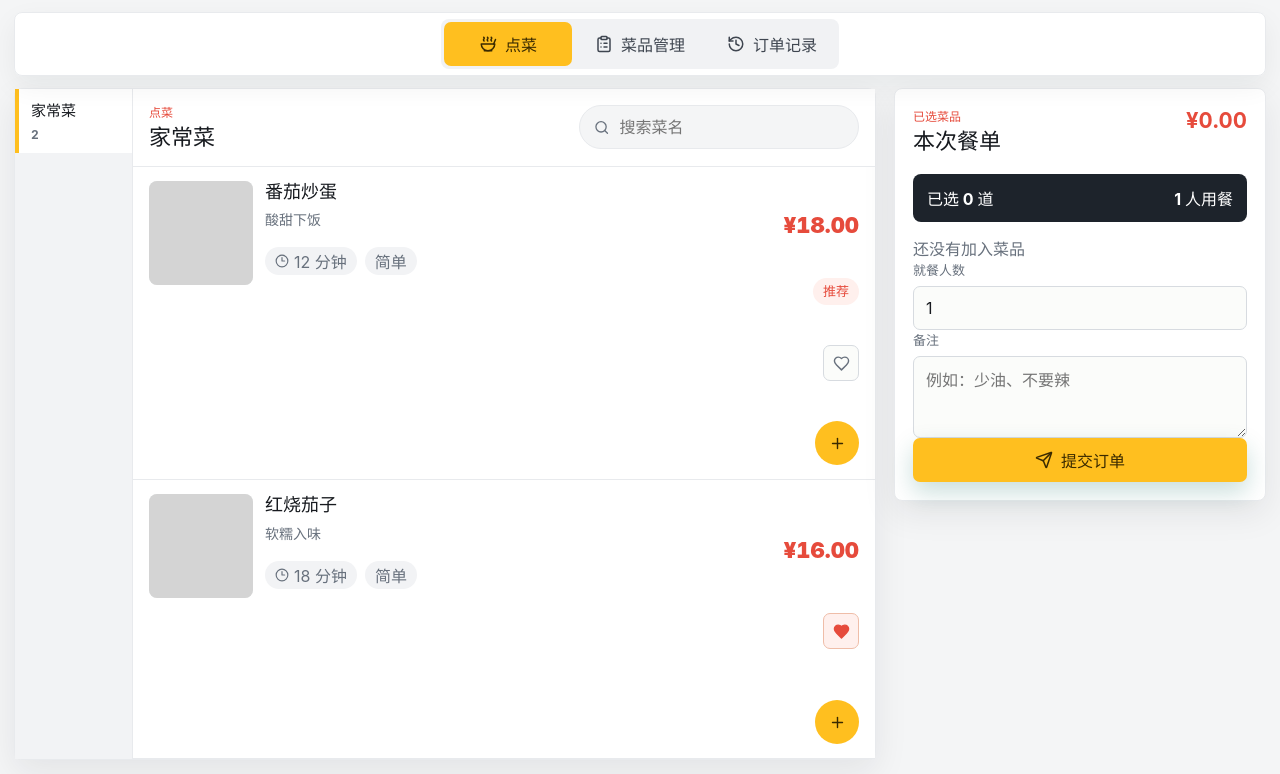
Test: App › keeps selected dishes after switching tabs
expect the text "番茄炒蛋" is shown: met, box [265, 180, 337, 202]
Step 1. Click the button named "加入餐单 番茄炒蛋" → (837, 443), box [815, 421, 859, 465]
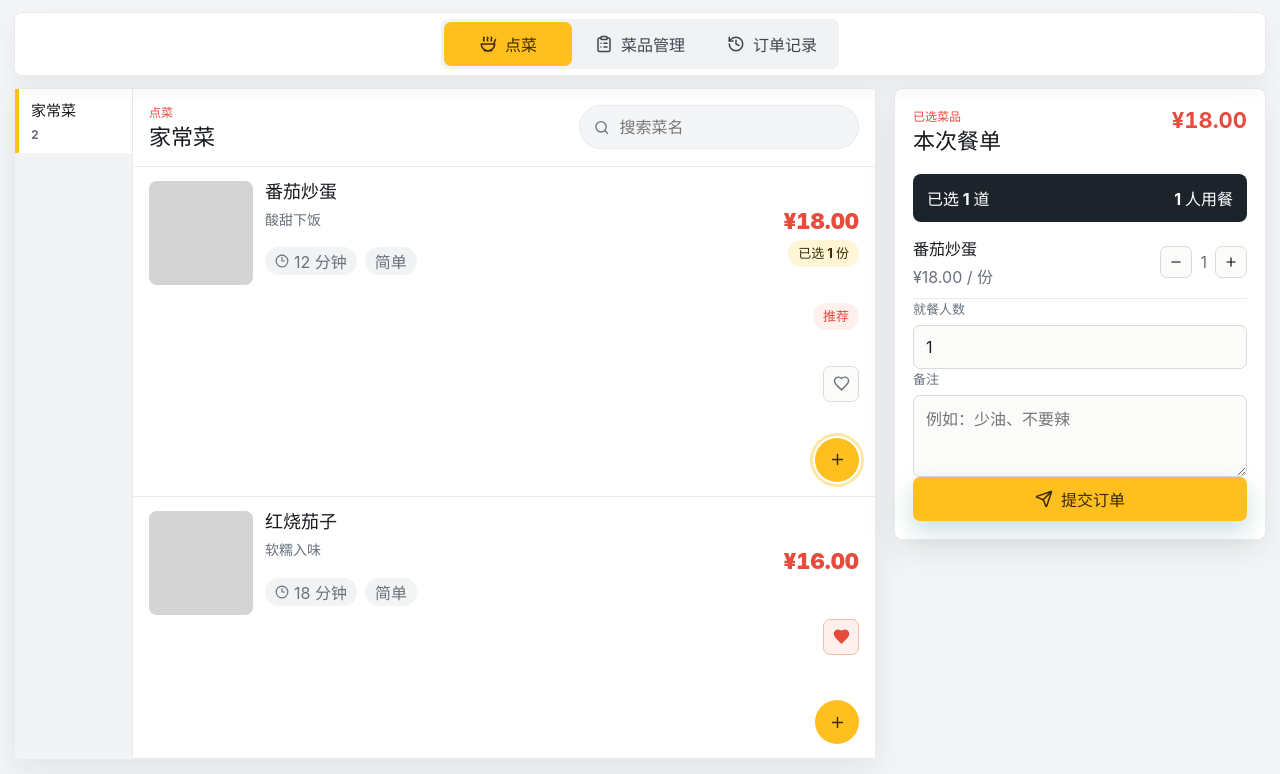
expect the text "已选 1 份" is shown: met, box [788, 240, 859, 267]
Step 2. Click the button "菜品管理" → (640, 44), box [576, 22, 704, 66]
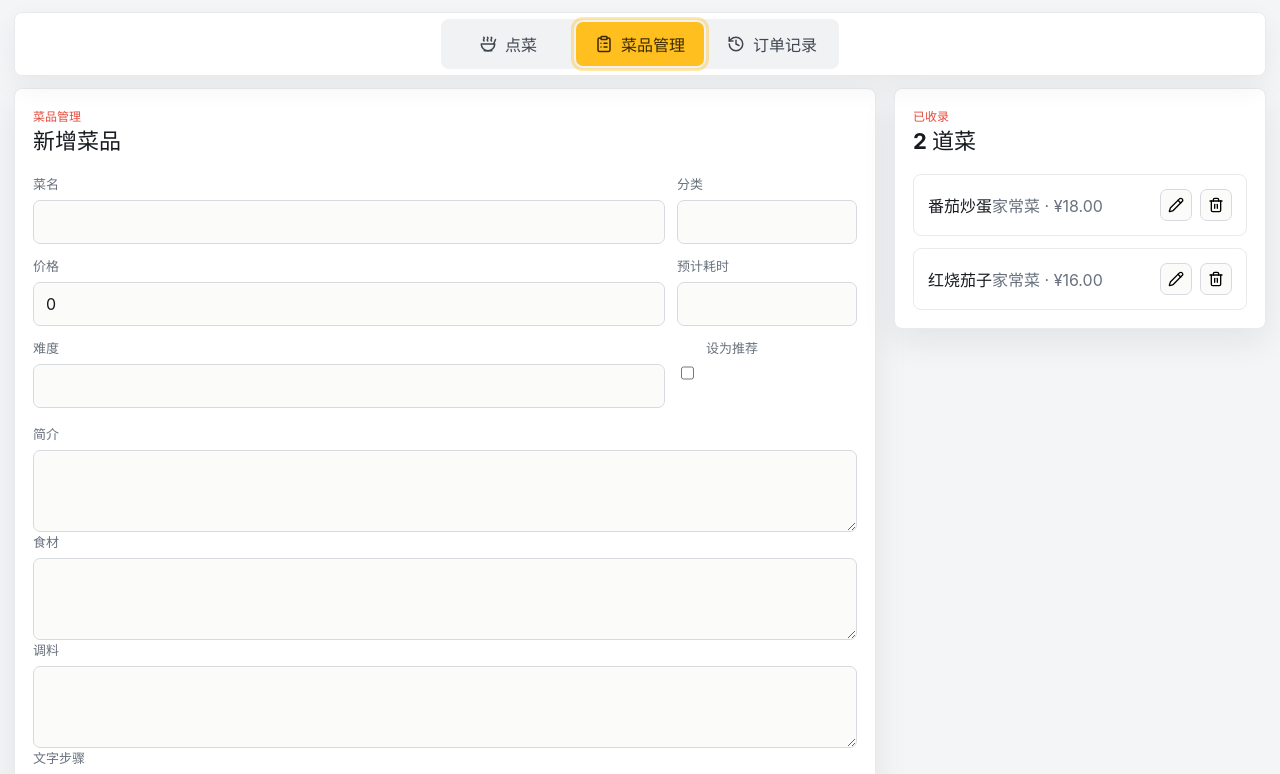
Step 3. Click the button "点菜" → (508, 44), box [444, 22, 572, 66]
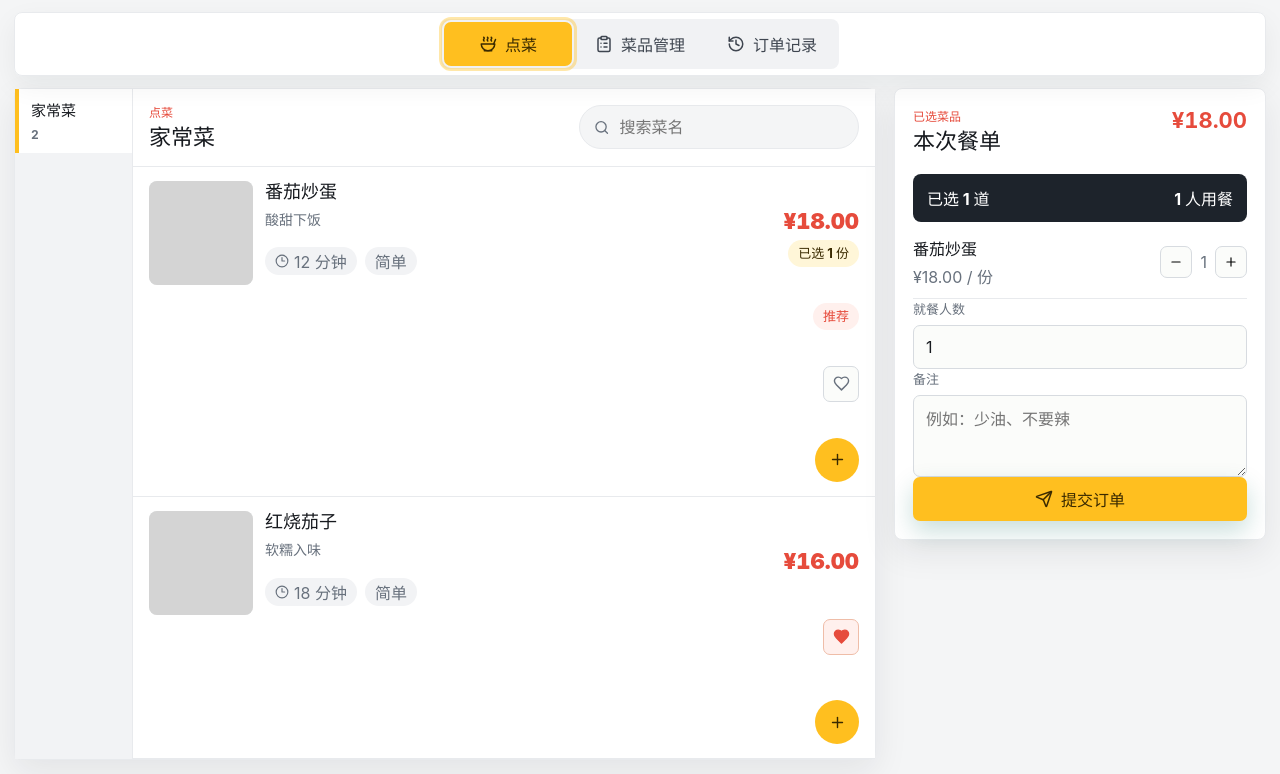
expect the text "已选 1 份" is shown: met, box [788, 240, 859, 267]
